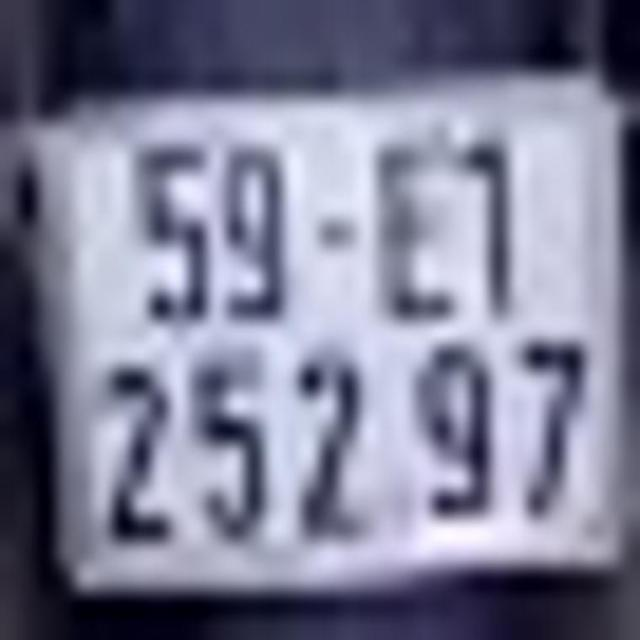1: (460, 134, 520, 312)
2: (288, 340, 373, 546), (102, 353, 174, 545)
5: (188, 350, 268, 540), (138, 138, 214, 324)
7: (514, 338, 593, 528)
9: (412, 328, 500, 520), (224, 138, 292, 329)
E: (369, 138, 455, 319)
